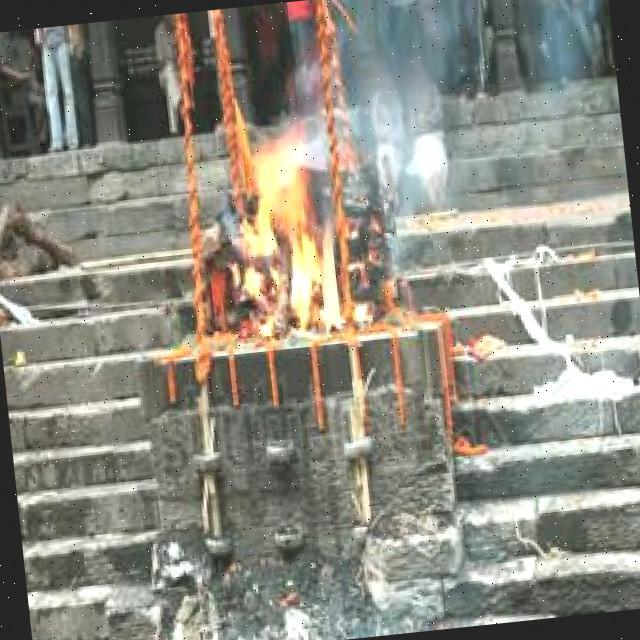Fire: (227, 134, 350, 347)
